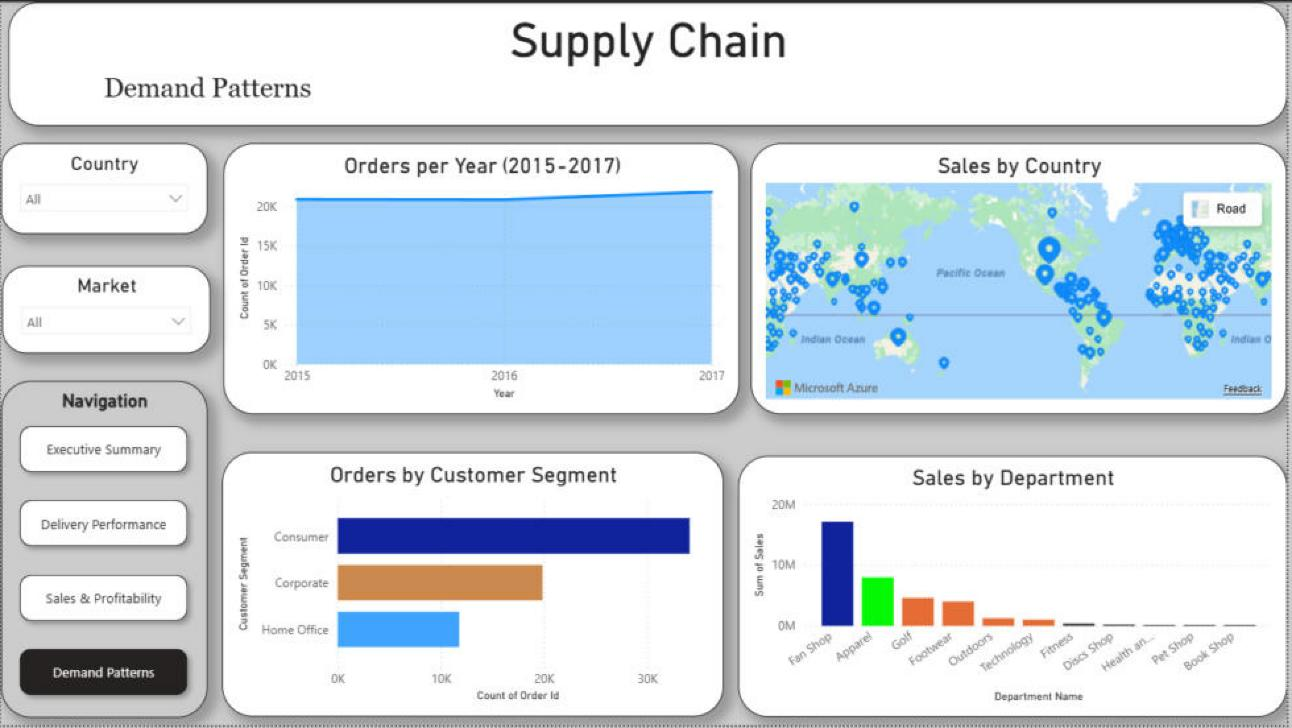

This screenshot's page, from the dashboard's own definition file:
{"tool":"powerbi","page":{"name":"Demand Patterns","canvas":[1280,720],"ordinal":3},"visuals":[{"type":"textbox","title":"Supply Chain","box":[7.2,0,1273.1,123],"z":0},{"type":"lineChart","title":"Orders per Year (2015-2017)","fields":{"Category":["cleaned_supply_chain.order date (DateOrders).Variation.Date Hierarchy.Year"],"Y":["Count(cleaned_supply_chain.Order Id)"]},"box":[221.4,140,513.8,269.5],"z":0,"group":"g1"},{"type":"slicer","title":"Market","fields":{"Values":["cleaned_supply_chain.Market"]},"box":[1.4,262.2,206.9,87.1],"z":0,"group":"g2"},{"type":"barChart","title":"Orders by Customer Segment","fields":{"Category":["cleaned_supply_chain.Customer Segment"],"Y":["Count(cleaned_supply_chain.Order Id)"]},"box":[220,447.9,499.1,263.3],"z":0,"group":"g3"},{"type":"group","id":"g1","title":"Group 1","box":[221.4,140,1058.6,269.6],"z":1000},{"type":"pageNavigator","title":"Navigation","box":[0,376.2,205.4,335.6],"z":1000,"group":"g2"},{"type":"clusteredColumnChart","title":"Sales by Department","fields":{"Category":["cleaned_supply_chain.Department Name"],"Y":["Sum(cleaned_supply_chain.Sales)"]},"box":[734,451.3,546.3,259.9],"z":1000,"group":"g3"},{"type":"azureMap","title":"Sales by Country","fields":{"Category":["cleaned_supply_chain.Order Country"],"Size":["Sum(cleaned_supply_chain.Sales)"]},"box":[746.3,140,533.7,269.5],"z":2000,"group":"g1"},{"type":"slicer","title":"Country","fields":{"Values":["cleaned_supply_chain.Order Country"]},"box":[0,140.3,205.4,90.2],"z":2000,"group":"g2"},{"type":"group","id":"g2","title":"Group 2","box":[0,140.3,208.3,571.4],"z":2000},{"type":"group","id":"g3","title":"Group 3","box":[220,447.9,1060.2,263.3],"z":3000}]}

Visuals, with their boxes in screenshot pixels (x1, y1, x2, y2), scaled from the page's 1280x720 canvas onto the 1292x728 screenshot:
"Supply Chain" textbox: bbox=(7, 0, 1291, 124)
"Orders per Year (2015-2017)" lineChart: bbox=(223, 142, 742, 414)
"Market" slicer: bbox=(1, 265, 210, 353)
"Orders by Customer Segment" barChart: bbox=(222, 453, 726, 719)
"Group 1" group: bbox=(223, 142, 1291, 414)
"Navigation" pageNavigator: bbox=(0, 380, 207, 720)
"Sales by Department" clusteredColumnChart: bbox=(741, 456, 1291, 719)
"Sales by Country" azureMap: bbox=(753, 142, 1291, 414)
"Country" slicer: bbox=(0, 142, 207, 233)
"Group 2" group: bbox=(0, 142, 210, 720)
"Group 3" group: bbox=(222, 453, 1291, 719)
